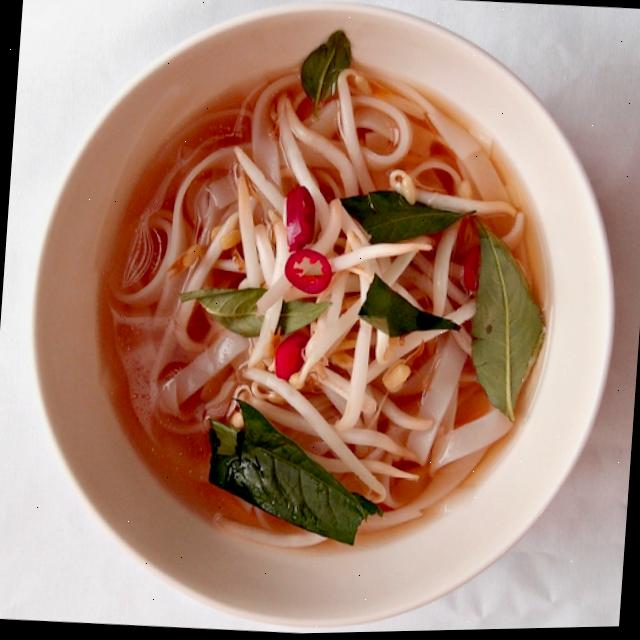面条主食: (32, 11, 618, 638)
